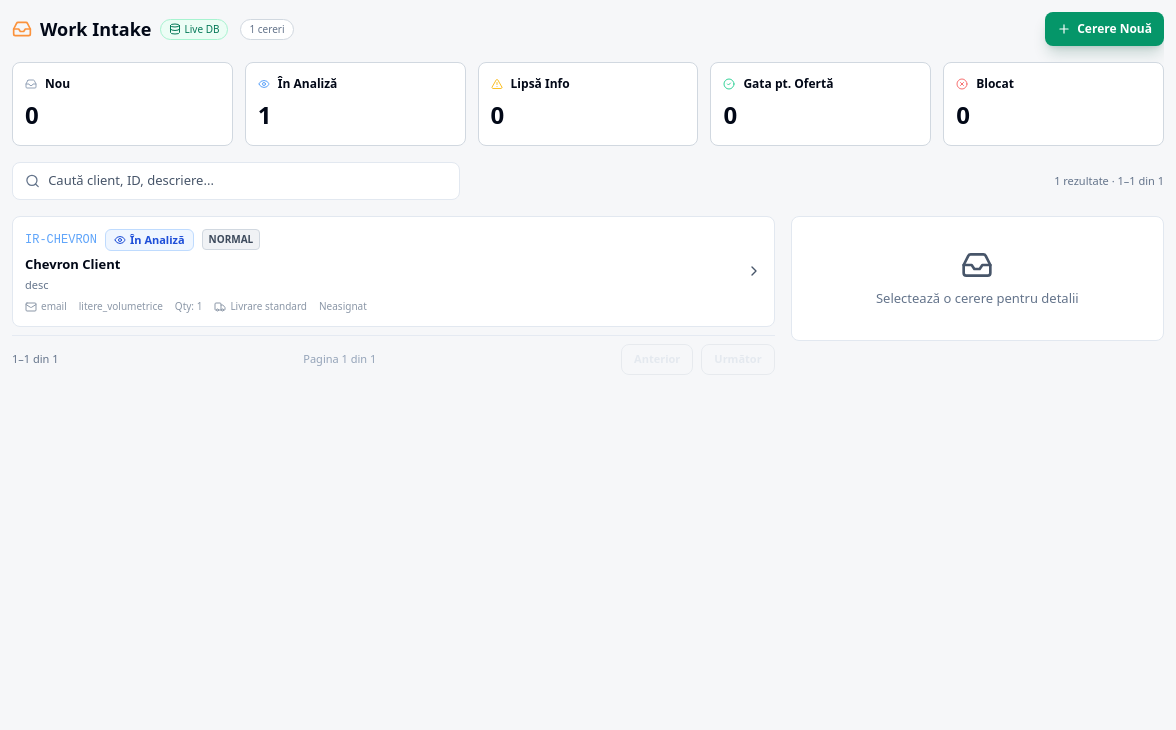
Test: WorkIntake list selection and routing › does not navigate when clicking chevron area on card (selection only)
What coordinates should you click on to do the following:
click the button with test id "work-intake-row-IR-CHEVRON"
I would click on:
 (61, 240)
Its box is top-left (12, 216), bottom-right (775, 327).
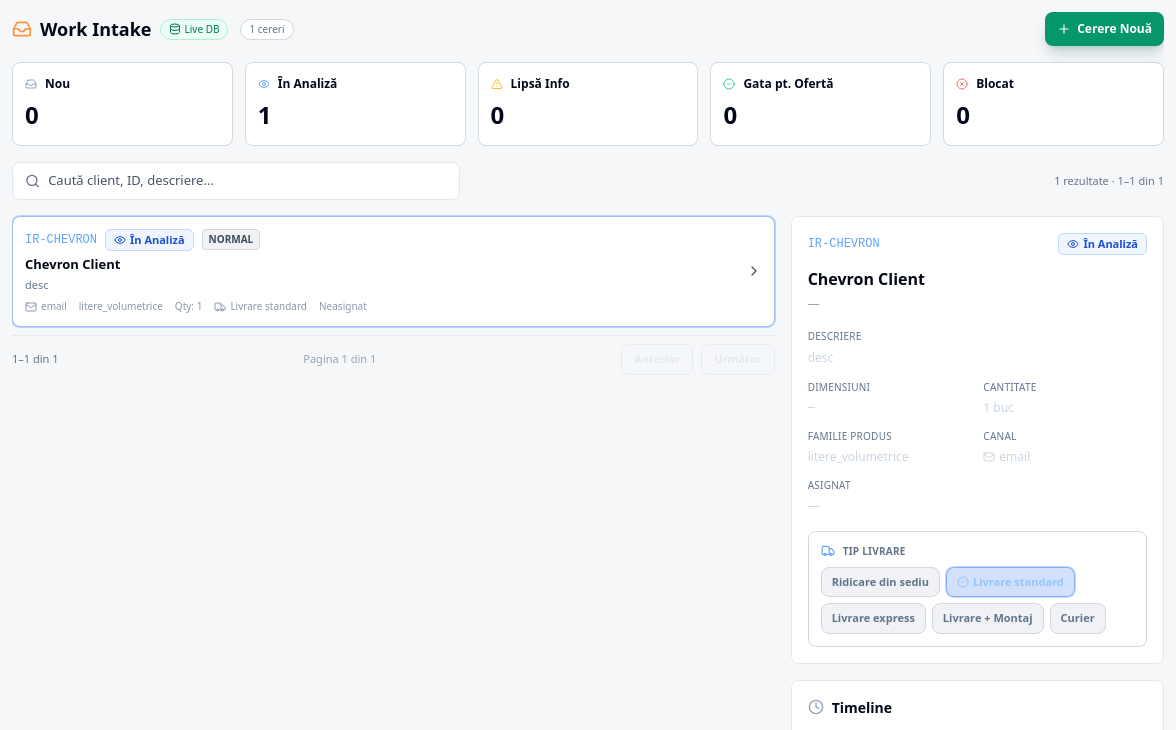
Expected: the heading "Chevron Client" is shown, top-left (808, 268), bottom-right (925, 290)
